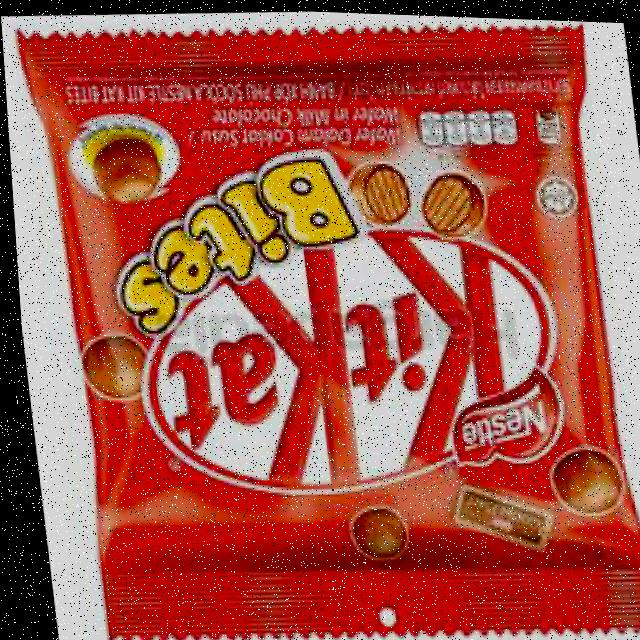kitkat: (13, 1, 640, 640)
